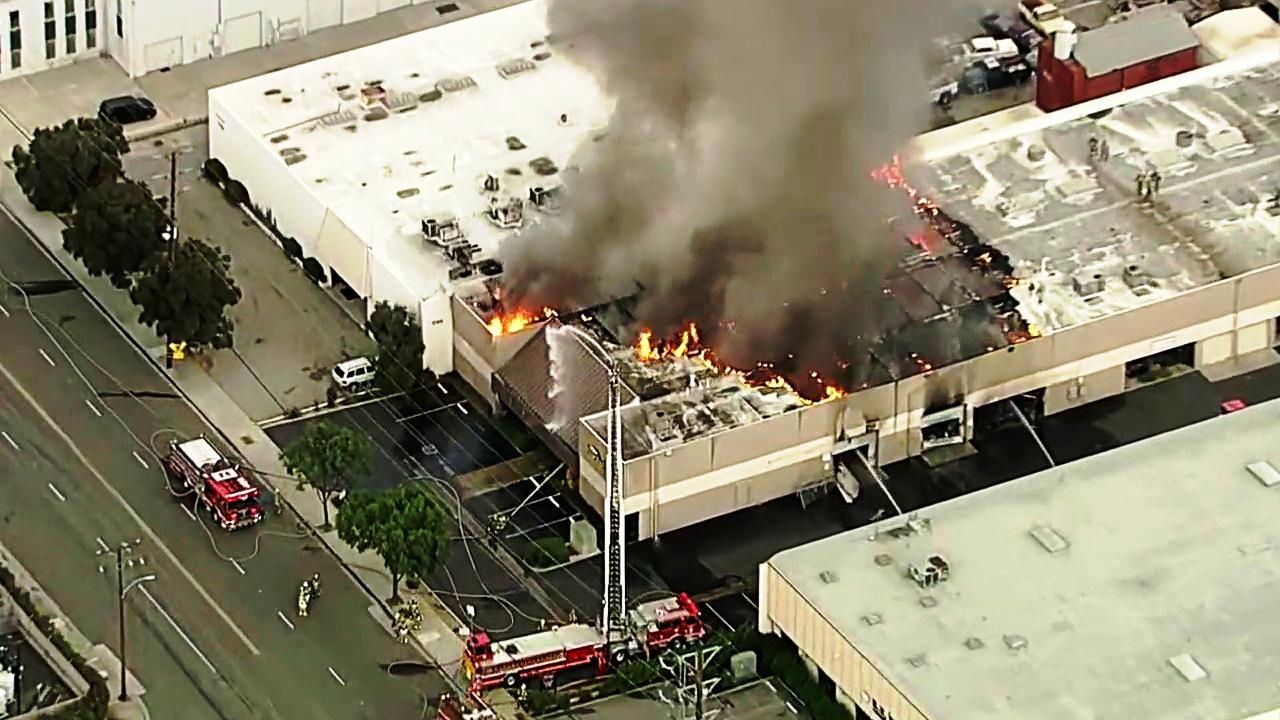smoke: (642, 0, 885, 272)
